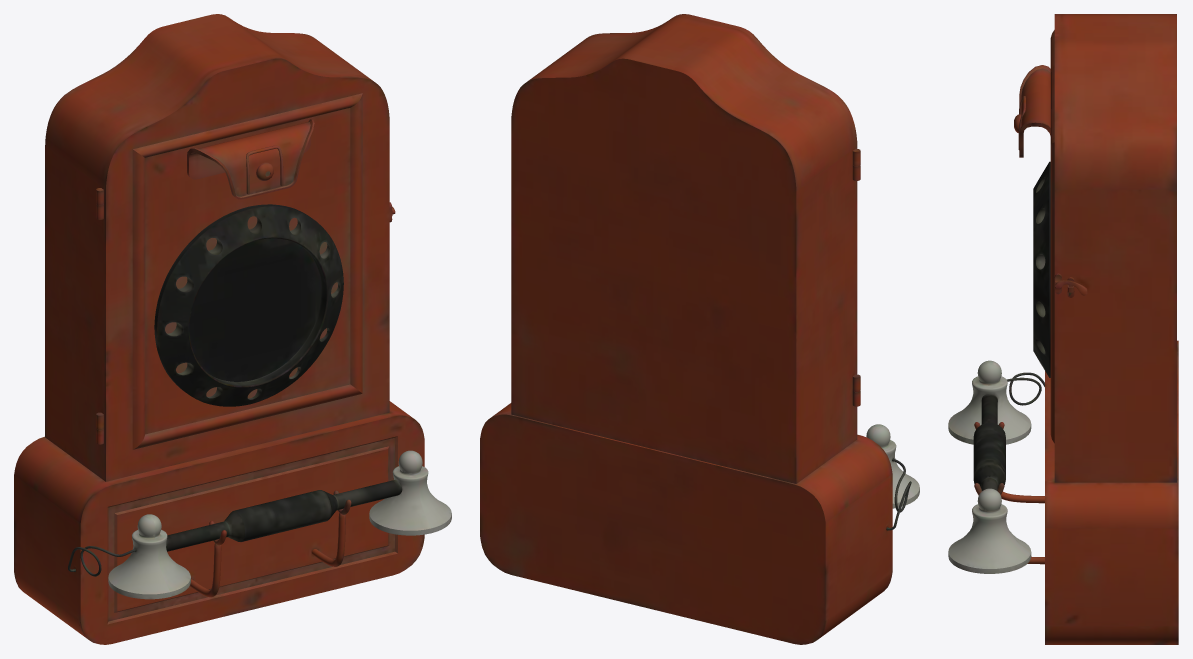
File: vintage_telephone_wall_clock.glb
3 renders of one model, left to right at view 1: azimuth 30°, elevation 25°; view 2: azimuth 150°, elevation 25°; view 3: azimuth 270°, elevation 25°, orthographic.
Parts seen in each view (by area): view 1: vintage_telephone_wall_clock; view 2: vintage_telephone_wall_clock; view 3: vintage_telephone_wall_clock.
Boxes of the visible parts, bbox=[...] form: vintage_telephone_wall_clock: bbox=[14, 14, 451, 644]; vintage_telephone_wall_clock: bbox=[480, 14, 919, 644]; vintage_telephone_wall_clock: bbox=[948, 14, 1178, 644].
Size of the model in its own units: 0.3428 by 0.5012 by 0.1926.
Materials: 2 (2 with a texture image).
